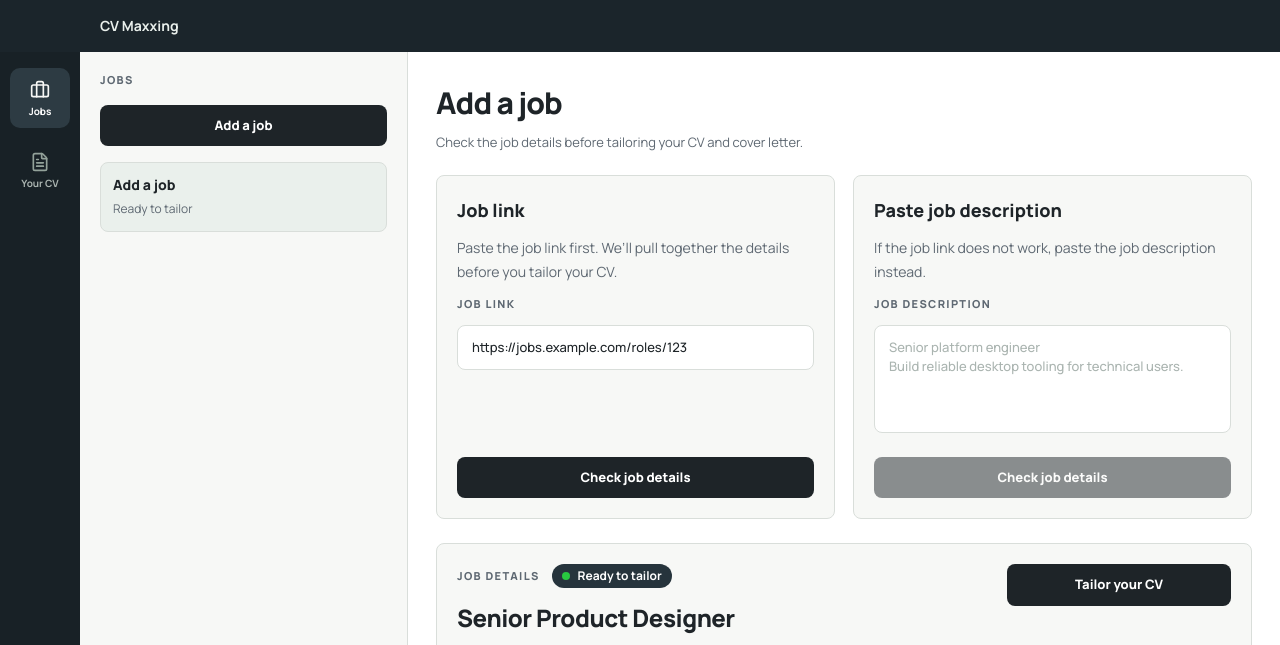
Test: shows a shared draft alert when tailoring fails to start
Expected: the heading "Add a job" is shown, 436,82 -> 562,123
Click the button "Tailor your CV". click: [1119, 585]
box: 1007,564 -> 1231,606
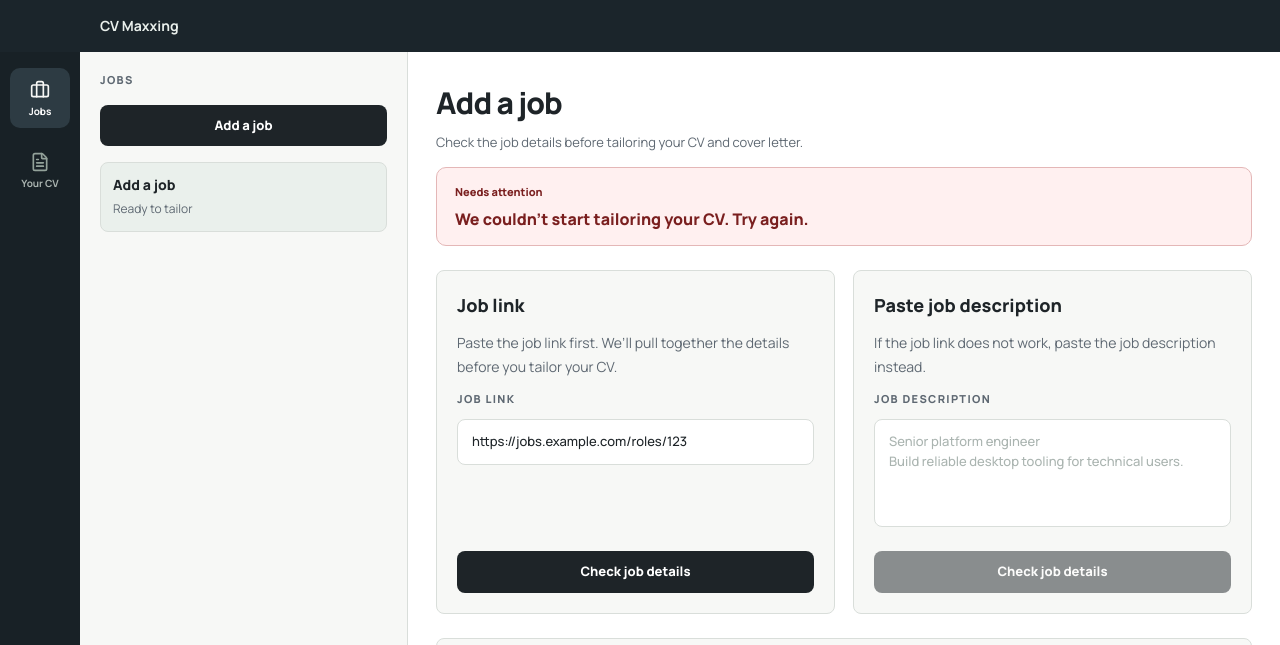
Expected: the message "Needs attention We couldn't start tailoring your CV. Try again." is shown, 436,167 -> 1252,246
Expected: the text "We couldn't start tailoring your CV. Try again." is shown once, 455,208 -> 809,230
